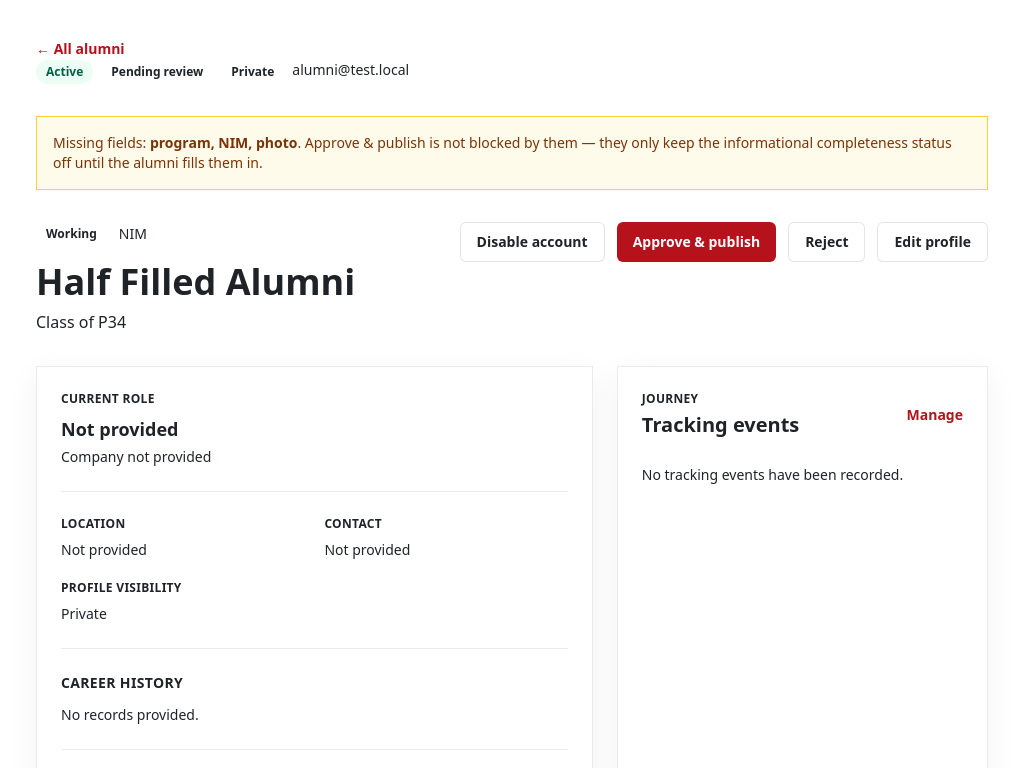
Alumni detail – review state › publishes a complete profile once the backend approves it
Click the button "Approve & publish" at coordinates (696, 242), box [617,222,776,262]
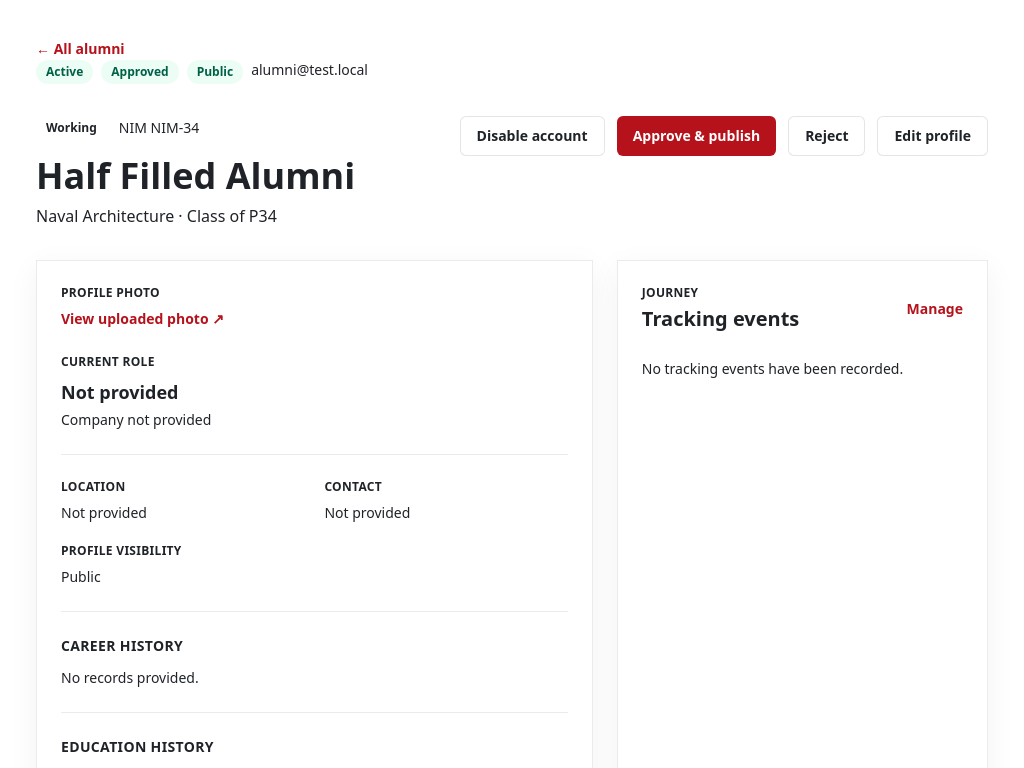
Now the text "Approved" is shown, box [101,60,179,84]
Now the text "Public" next to "alumni@test.local" is shown, box [197,63,233,80]
Now the text "Missing fields" is gone
